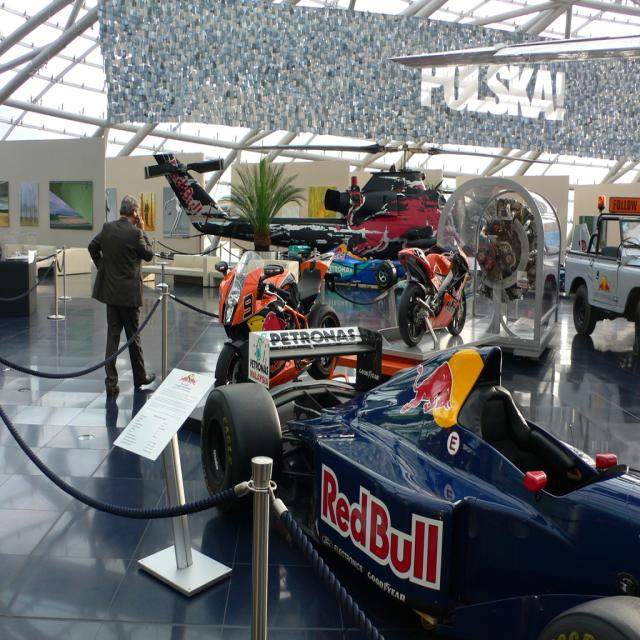Person: (88, 194, 156, 396)
